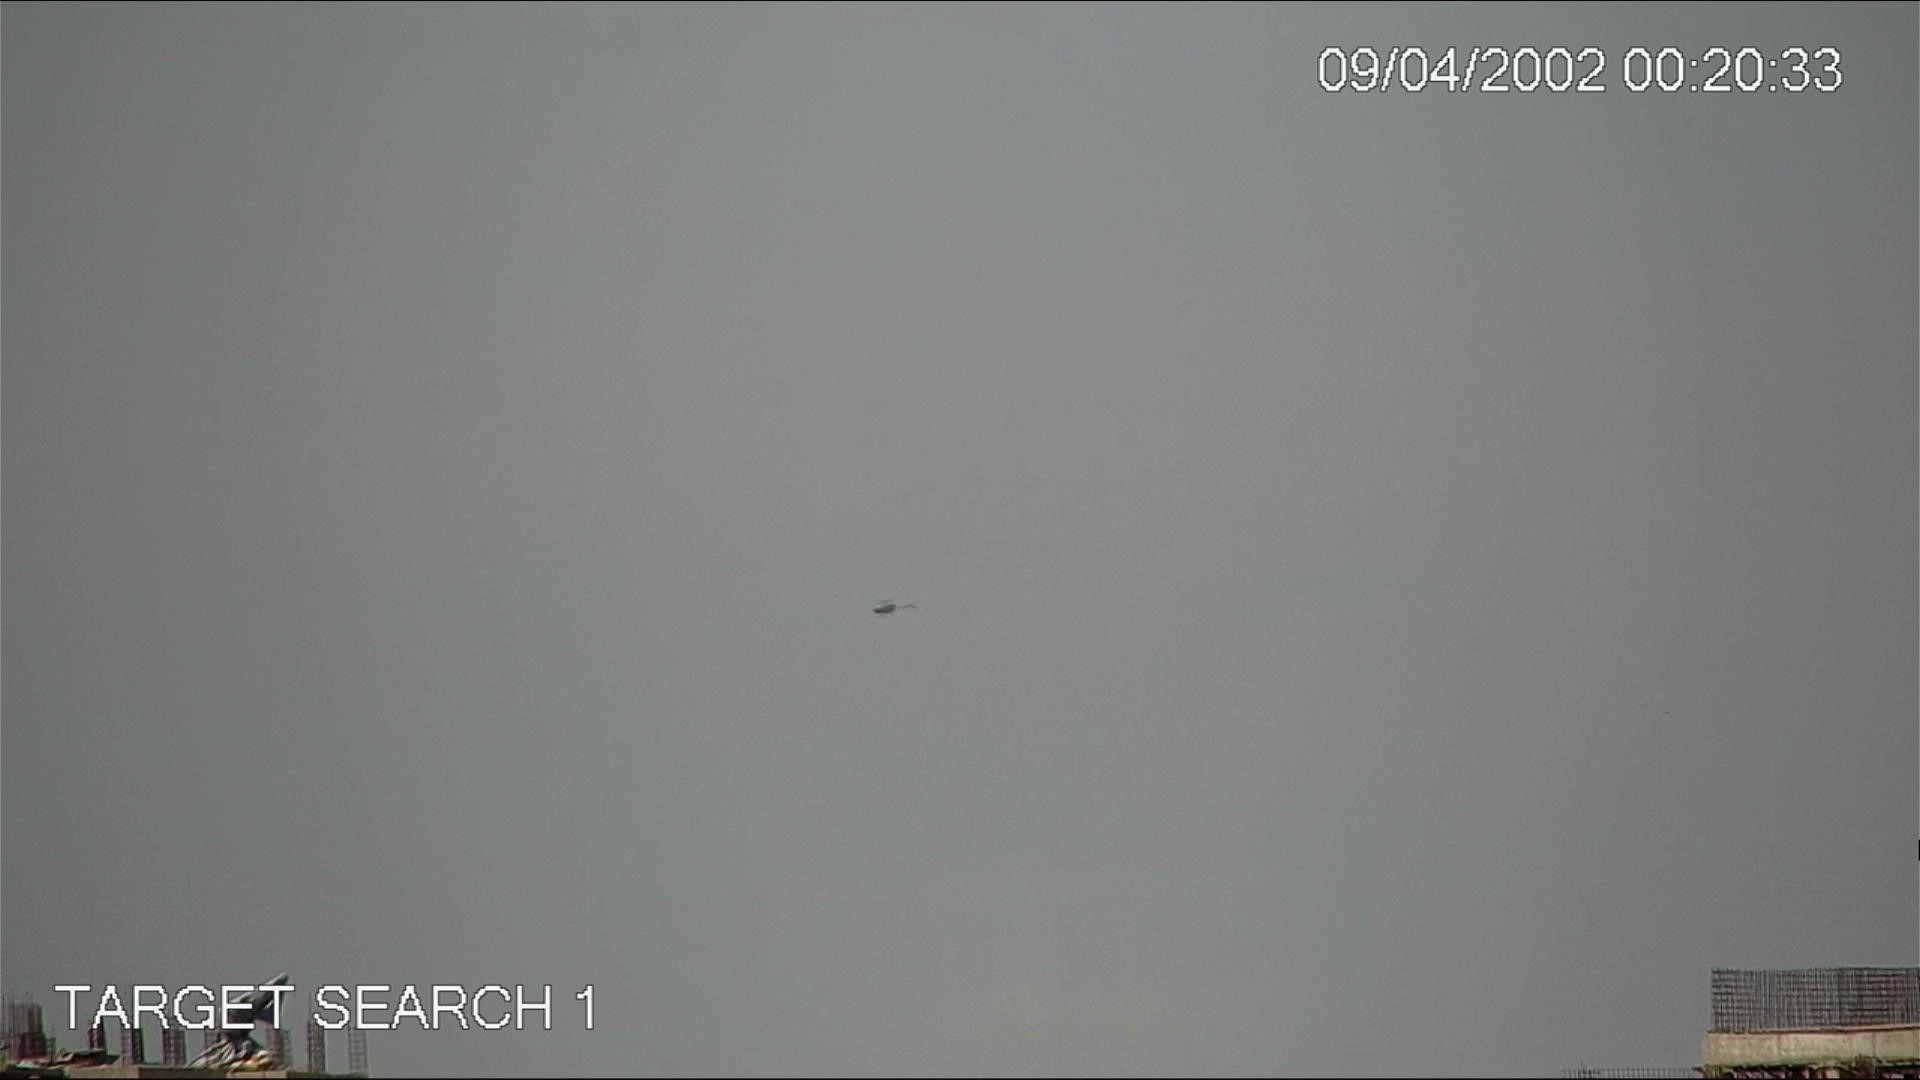SU_30: (866, 599, 898, 616)
